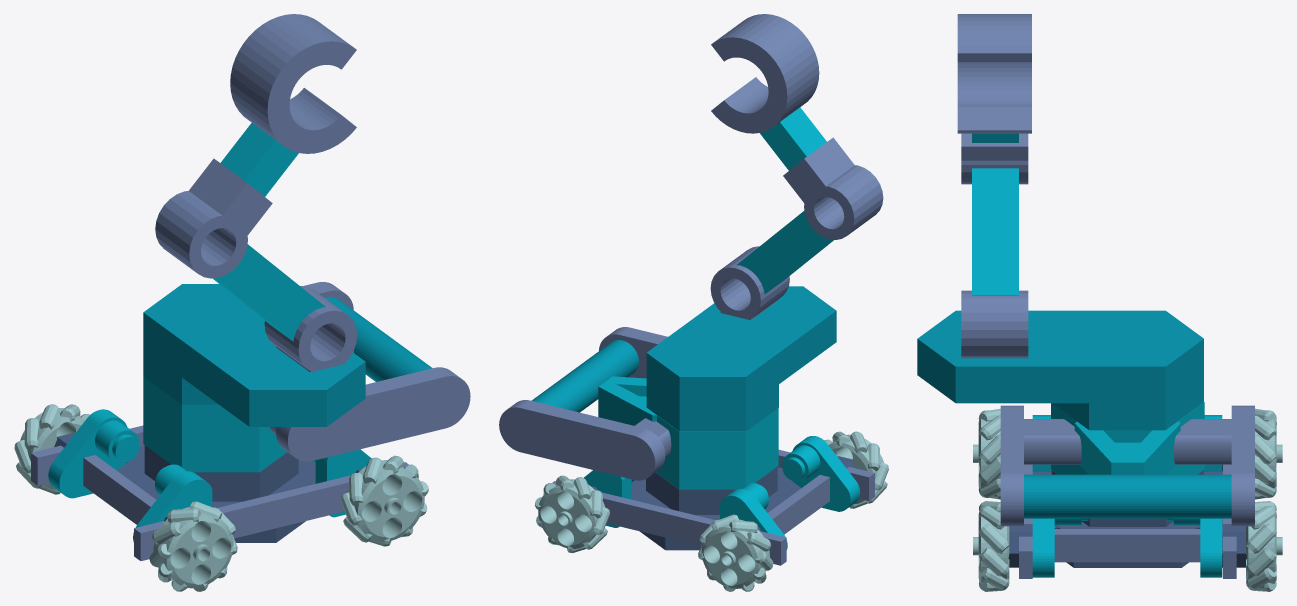
Rendered from bot-mecanum-blue-manipulator.glb.
3 views of the same model, side by side, from view 1: azimuth 30°, elevation 25°; view 2: azimuth 150°, elevation 25°; view 3: azimuth 270°, elevation 25° (orthographic). The views are drawn at different scales.
Parts seen in each view (by area): view 1: Mesh_Mesh_head_geo.001_lambert2SG.001; view 2: Mesh_Mesh_head_geo.001_lambert2SG.001; view 3: Mesh_Mesh_head_geo.001_lambert2SG.001.
Boxes of the visible parts, x1,y1,x2,y2 form: Mesh_Mesh_head_geo.001_lambert2SG.001: (14,14,470,591); Mesh_Mesh_head_geo.001_lambert2SG.001: (499,14,888,591); Mesh_Mesh_head_geo.001_lambert2SG.001: (917,14,1282,591).
Size of the model in its own units: 0.0272 by 0.0433 by 0.0271.
